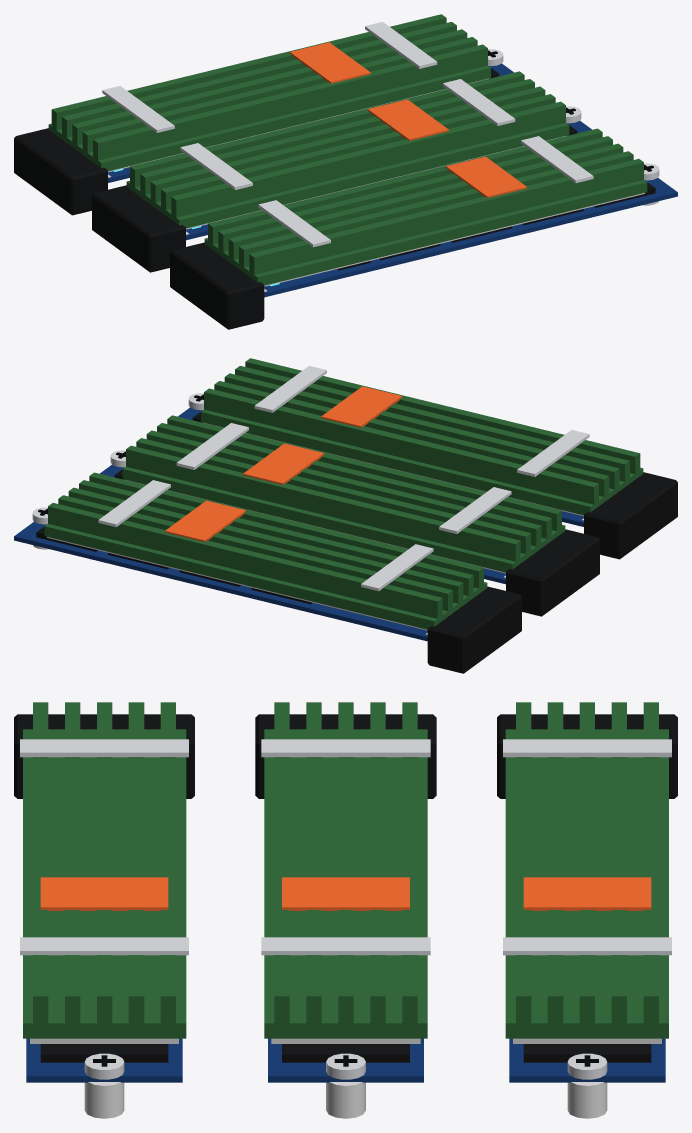
The model's file is hwm_sto_nvme4_15tb.glb.
The picture shows the model from 3 angles, top to bottom: view 1: azimuth 30°, elevation 25°; view 2: azimuth 150°, elevation 25°; view 3: azimuth 270°, elevation 25°; orthographic projection. The views are drawn at different scales.
Parts seen in each view (by area): view 1: SSD_2, SSD_0, SSD_1, Slots; view 2: SSD_0, SSD_2, SSD_1, Slots; view 3: SSD_0, SSD_2, SSD_1, Slots, Screw_0, Screw_2, Screw_1.
Part boxes in pixels (x1=…): SSD_2: x1=204, y1=128, x2=677, y2=297; SSD_0: x1=48, y1=14, x2=513, y2=182; SSD_1: x1=126, y1=71, x2=591, y2=240; Slots: x1=14, y1=63, x2=658, y2=329; SSD_0: x1=14, y1=472, x2=487, y2=641; SSD_2: x1=178, y1=358, x2=643, y2=526; SSD_1: x1=100, y1=415, x2=565, y2=584; Slots: x1=33, y1=407, x2=677, y2=673; SSD_0: x1=503, y1=702, x2=671, y2=1082; SSD_2: x1=20, y1=702, x2=188, y2=1082; SSD_1: x1=261, y1=702, x2=430, y2=1082; Slots: x1=14, y1=714, x2=677, y2=1118; Screw_0: x1=567, y1=1053, x2=607, y2=1079; Screw_2: x1=84, y1=1053, x2=124, y2=1079; Screw_1: x1=326, y1=1053, x2=365, y2=1079.
Size of the model in its own units: 0.1155 by 0.0154 by 0.0935.
